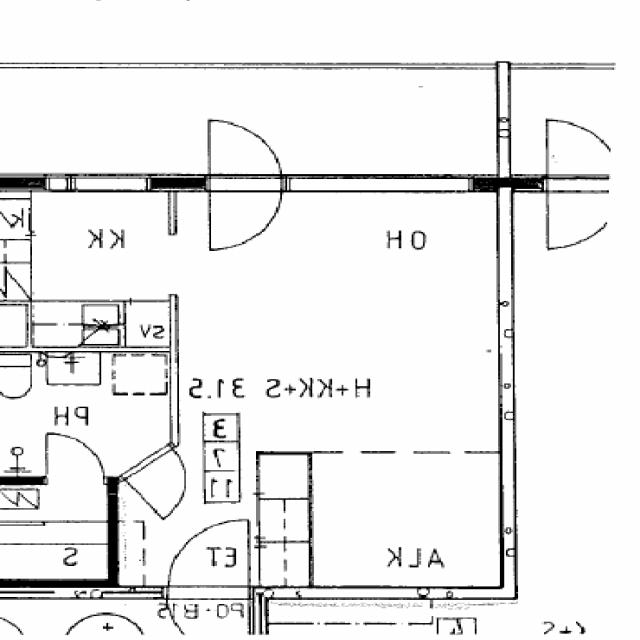door: (121, 444, 211, 518), (168, 521, 250, 600), (210, 114, 285, 192), (210, 174, 285, 252), (168, 588, 250, 640), (48, 429, 104, 484)
